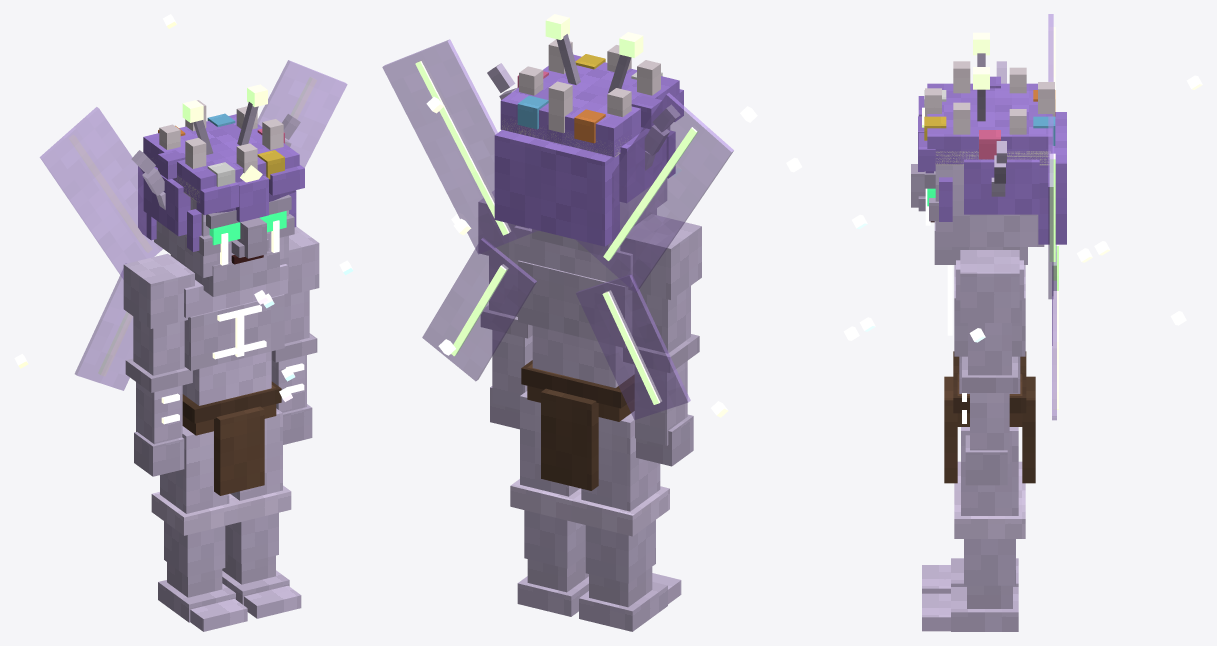
Rendered from fairy_base_v3_evo1.glb.
3 views of the same model, side by side, from view 1: azimuth 30°, elevation 25°; view 2: azimuth 150°, elevation 25°; view 3: azimuth 270°, elevation 25° (orthographic). The views are drawn at different scales.
Parts seen in each view (by area): view 1: Torso, Head, ArmR, LegR, LegL, ArmL; view 2: Torso, Head, LegR, ArmR, LegL, ArmL; view 3: Head, ArmL, LegL, Torso, LegR.
Part boxes in pixels (x1=…): Torso: x1=14, y1=14, x2=353, y2=495; Head: x1=131, y1=84, x2=304, y2=296; ArmR: x1=123, y1=253, x2=194, y2=476; LegR: x1=151, y1=426, x2=247, y2=631; LegL: x1=222, y1=408, x2=301, y2=618; ArmL: x1=271, y1=226, x2=319, y2=444; Torso: x1=382, y1=39, x2=757, y2=490; Head: x1=487, y1=14, x2=683, y2=255; LegR: x1=571, y1=411, x2=681, y2=631; ArmR: x1=620, y1=214, x2=701, y2=466; LegL: x1=510, y1=391, x2=588, y2=616; ArmL: x1=478, y1=190, x2=532, y2=429; Head: x1=911, y1=32, x2=1066, y2=264; ArmL: x1=960, y1=250, x2=1019, y2=485; LegL: x1=922, y1=427, x2=1025, y2=631; Torso: x1=786, y1=14, x2=1202, y2=483; LegR: x1=922, y1=461, x2=1025, y2=593.
Bounding box in the file's own units: 0.7287 × 1.11 × 0.7622.
Materials: 32 (32 with a texture image).
